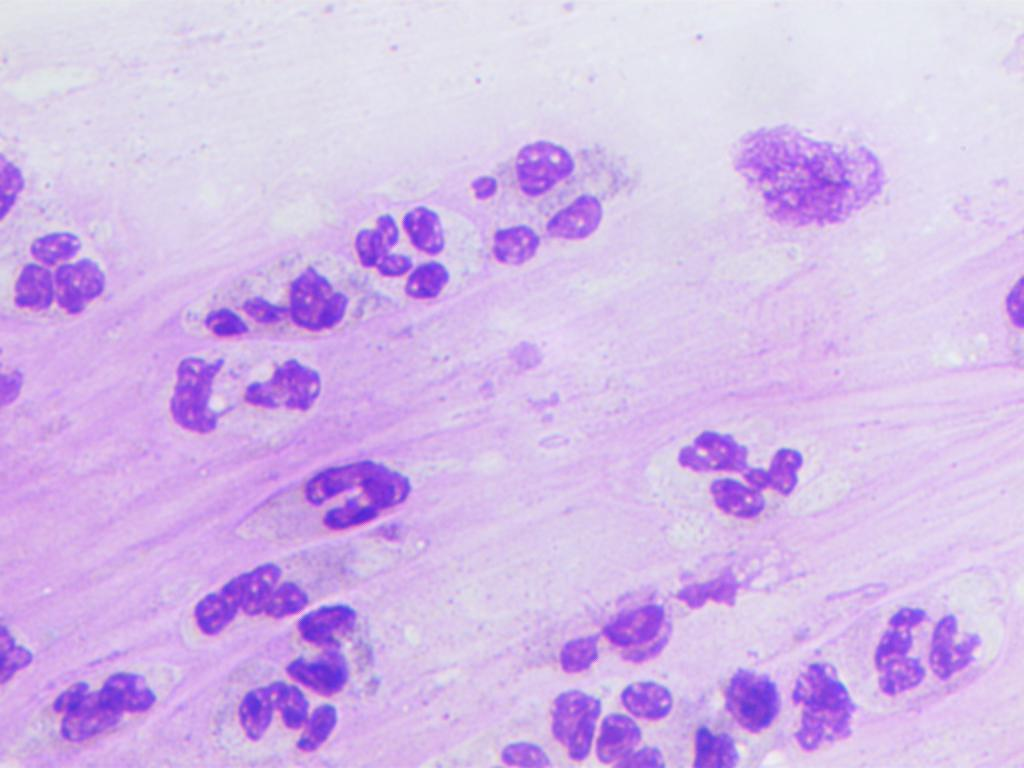artifact: (712, 114, 919, 244)
neutrophil: (525, 568, 754, 676), (468, 137, 650, 269), (675, 644, 862, 768), (639, 419, 816, 536), (15, 653, 203, 755), (160, 339, 326, 447), (340, 190, 482, 309), (289, 432, 437, 543), (181, 248, 362, 338), (546, 661, 674, 768), (873, 592, 987, 706), (4, 214, 118, 328), (224, 670, 339, 754), (179, 556, 310, 619), (277, 605, 366, 697), (483, 726, 564, 768)
